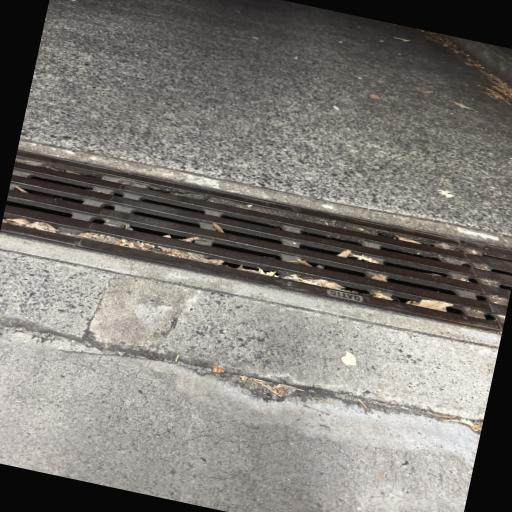gutter: (1, 148, 512, 336)
